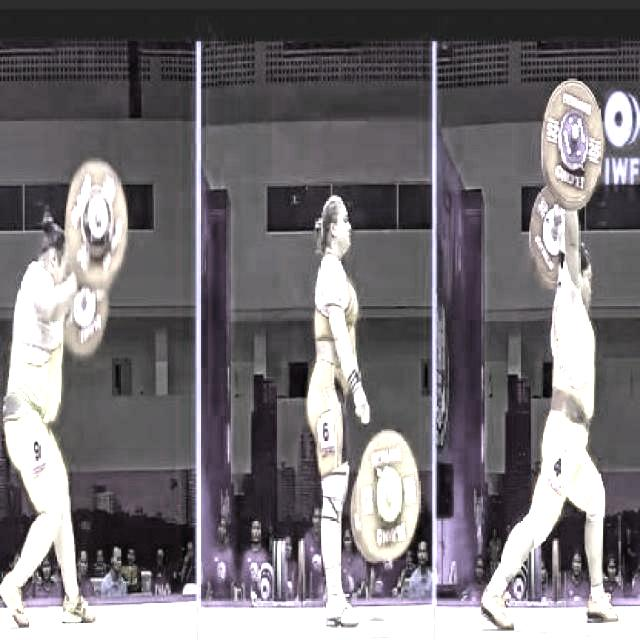barbell: (350, 420, 424, 569), (537, 69, 610, 220), (64, 151, 133, 293)
